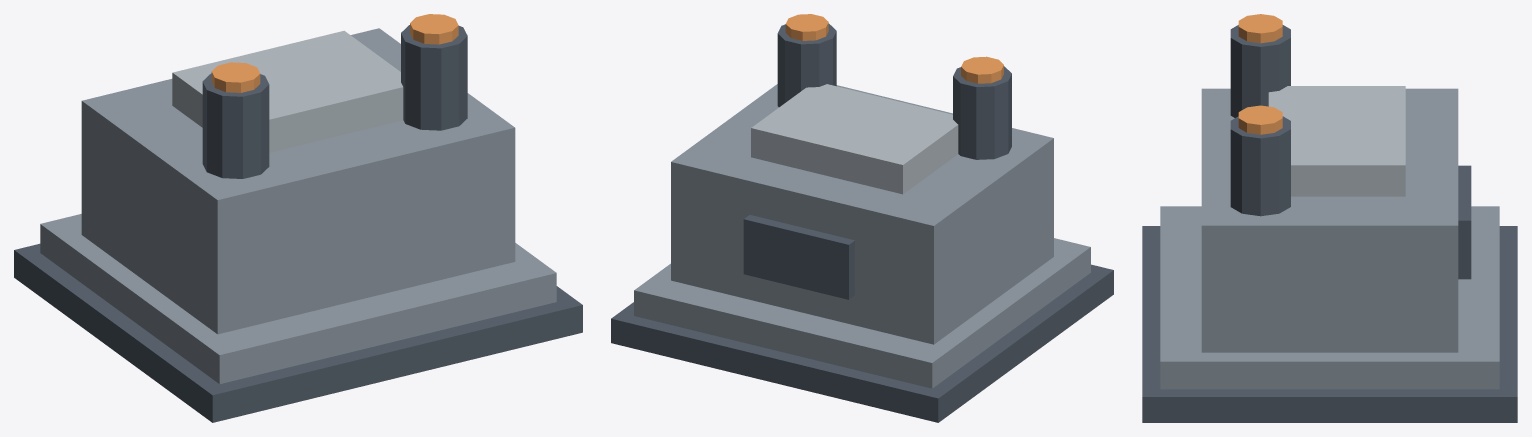
File: factory.glb
3 views of the same model, side by side, from view 1: azimuth 30°, elevation 25°; view 2: azimuth 150°, elevation 25°; view 3: azimuth 270°, elevation 25° (orthographic). The views are drawn at different scales.
Parts seen in each view (by area): view 1: detail_002, detail_001, detail_000, detail_003, detail_004, detail_007, detail_005, detail_008; view 2: detail_002, detail_001, detail_000, detail_003, detail_010, detail_004, detail_007, detail_008, detail_005; view 3: detail_002, detail_001, detail_000, detail_003, detail_007, detail_004, detail_010, detail_005, detail_008.
Part boxes in pixels (x1,y1,x2,y2): detail_002: (81, 28, 515, 334); detail_001: (40, 214, 556, 384); detail_000: (14, 243, 582, 422); detail_003: (172, 30, 403, 152); detail_004: (202, 73, 269, 178); detail_007: (401, 25, 467, 130); detail_005: (211, 62, 260, 92); detail_008: (410, 14, 458, 44); detail_002: (671, 84, 1053, 344); detail_001: (634, 238, 1090, 388); detail_000: (611, 264, 1113, 422); detail_003: (751, 84, 958, 194); detail_010: (743, 215, 854, 299); detail_004: (953, 66, 1011, 159); detail_007: (777, 24, 836, 107); detail_008: (785, 14, 828, 40); detail_005: (961, 56, 1003, 83); detail_002: (1201, 88, 1458, 352); detail_001: (1160, 206, 1499, 389); detail_000: (1142, 226, 1517, 422); detail_003: (1268, 86, 1405, 196); detail_007: (1230, 116, 1290, 216); detail_004: (1230, 25, 1290, 117); detail_010: (1458, 165, 1471, 279); detail_005: (1238, 14, 1282, 43); detail_008: (1238, 105, 1282, 134).
Size of the model in its own units: 2.8 by 2.05 by 2.6.
